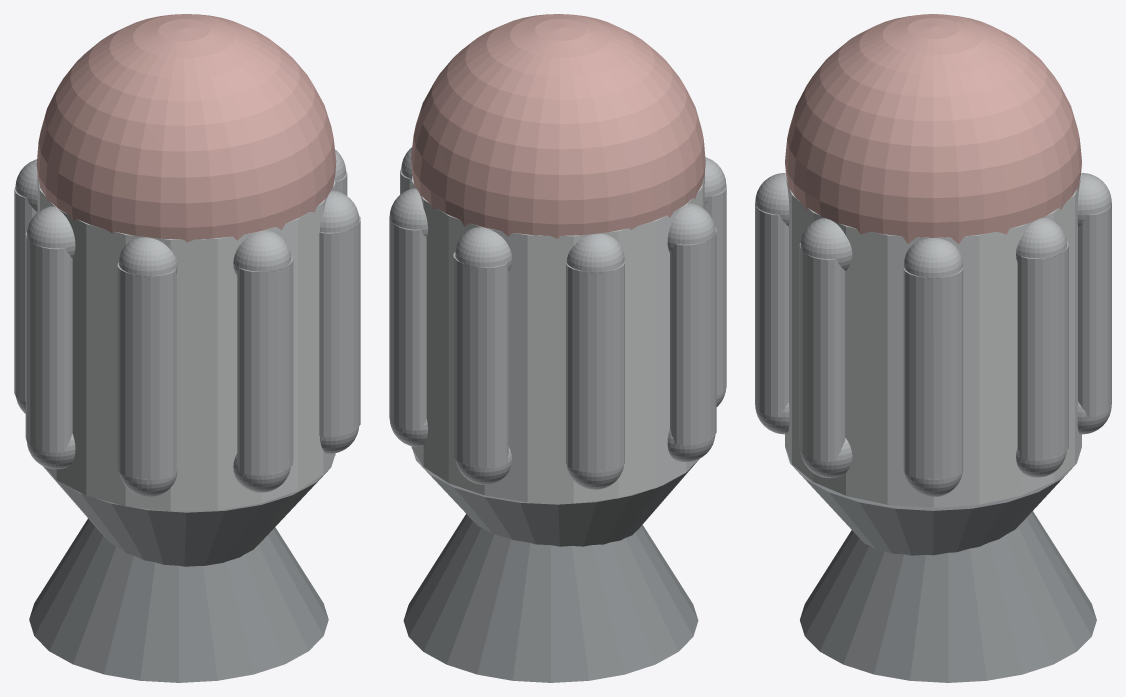
Rendered from ashley_rocket.glb.
3 views of the same model, side by side, from view 1: azimuth 30°, elevation 25°; view 2: azimuth 150°, elevation 25°; view 3: azimuth 270°, elevation 25° (orthographic).
Visible parts, largest first — view 1: Mesh_Mesh_head_geo.001_lambert2SG.001; view 2: Mesh_Mesh_head_geo.001_lambert2SG.001; view 3: Mesh_Mesh_head_geo.001_lambert2SG.001.
Part boxes in pixels (x1,y1,x2,y2): Mesh_Mesh_head_geo.001_lambert2SG.001: (14,14,360,682); Mesh_Mesh_head_geo.001_lambert2SG.001: (389,14,726,682); Mesh_Mesh_head_geo.001_lambert2SG.001: (755,14,1111,682).
Size of the model in its own units: 24 by 44 by 24.
